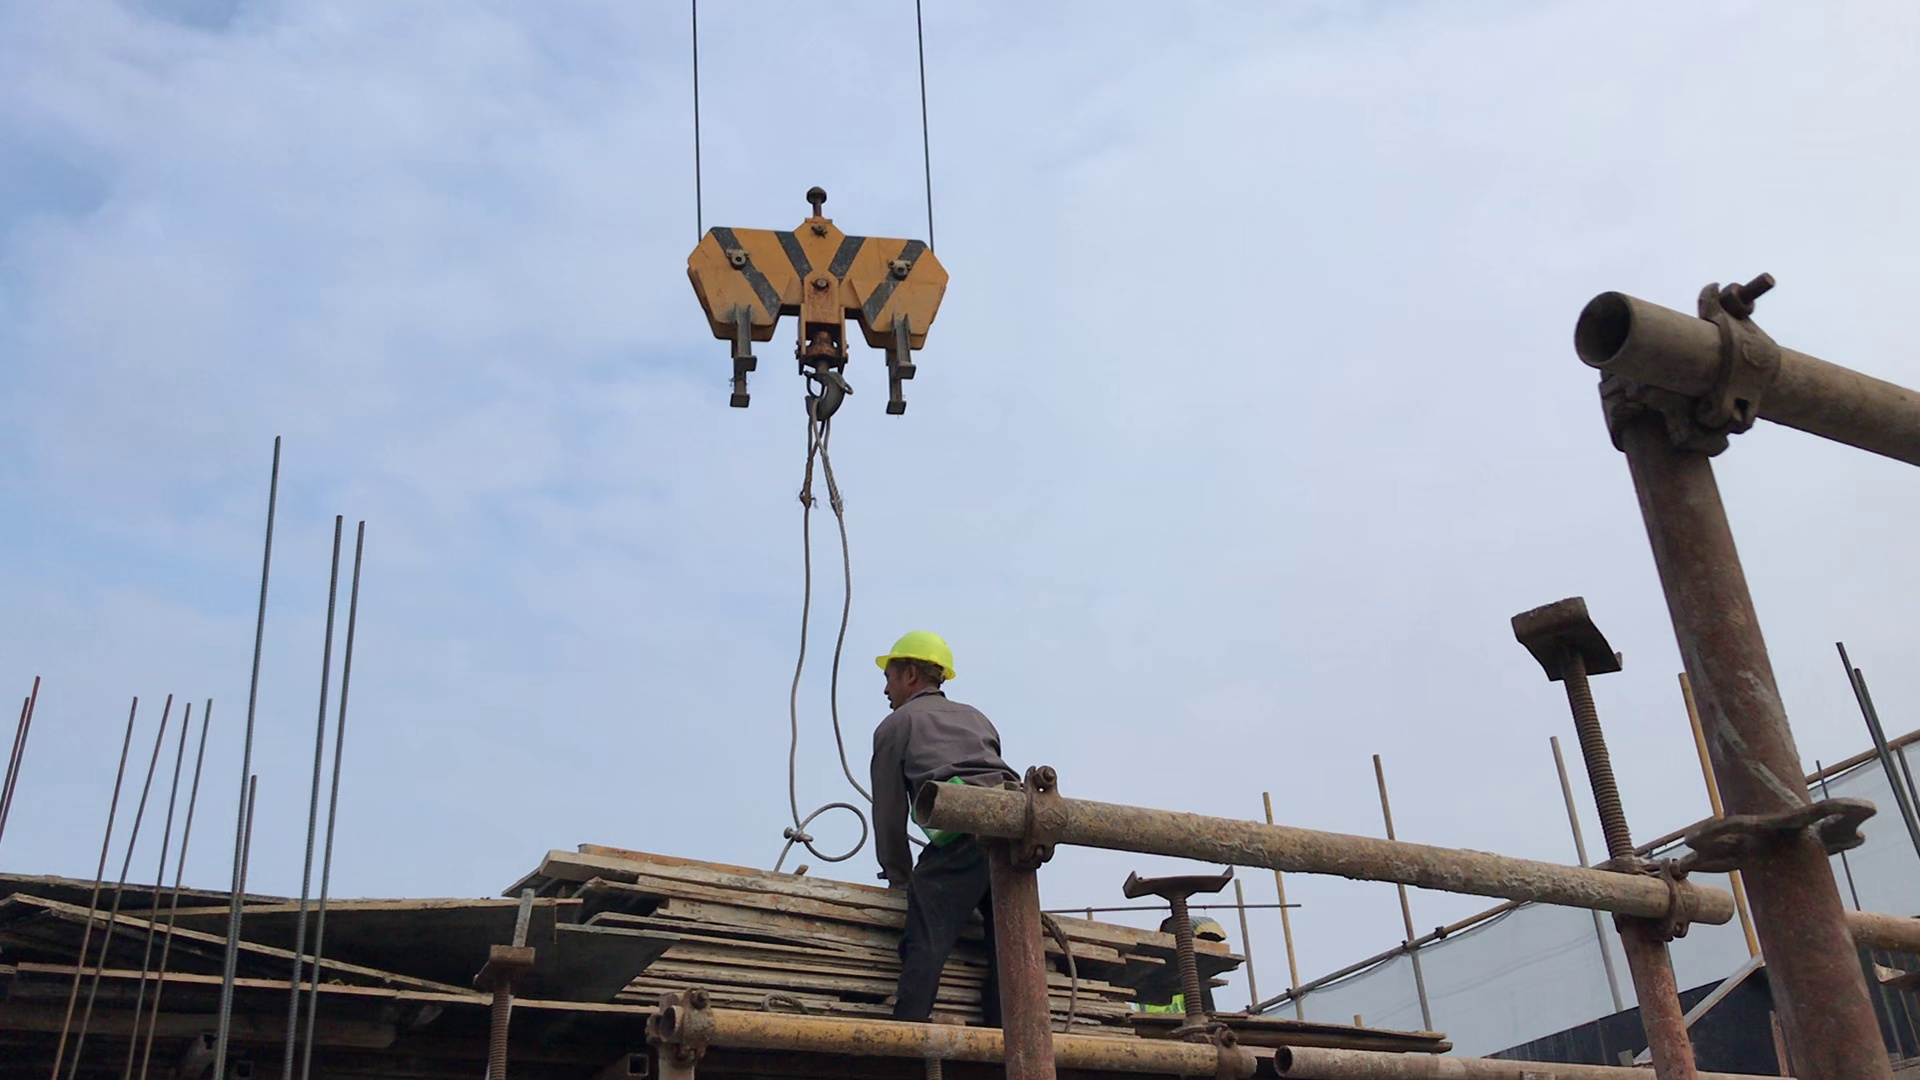board: (488, 837, 886, 1011)
helmet: (871, 631, 955, 678)
hook: (677, 183, 955, 424)
person: (862, 627, 999, 1026)
